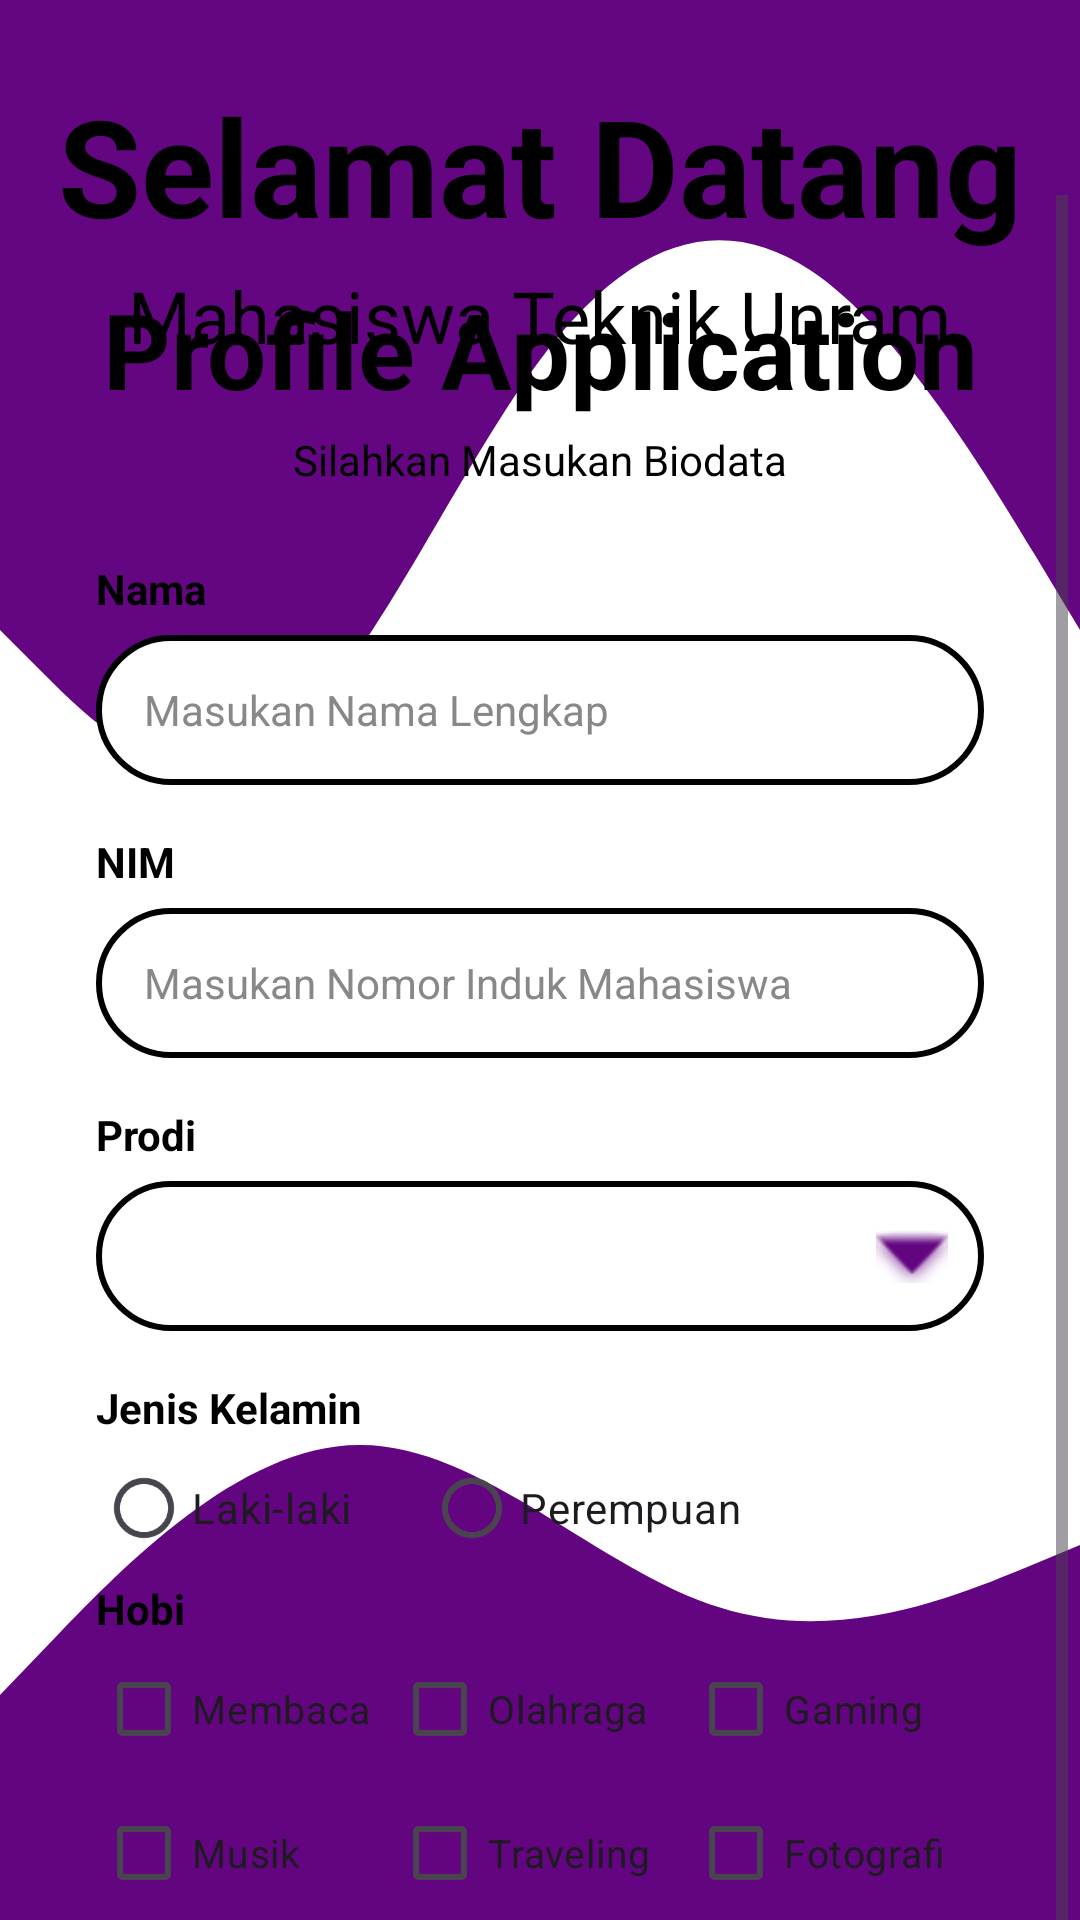

Where icons sit on this 1080 × 1920 app screen, as (x1, y1, x2, y2):
arrow down float: (876, 1232, 948, 1281)
